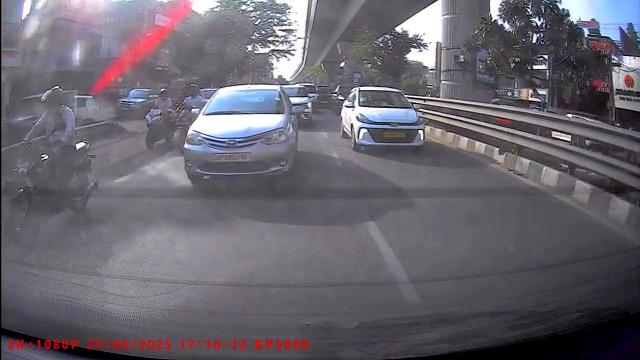motorcycle_with_helmet: (4, 84, 101, 249)
